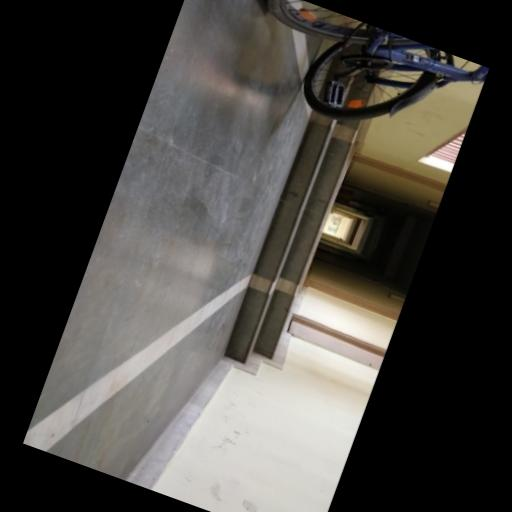stairs: (224, 114, 357, 363)
